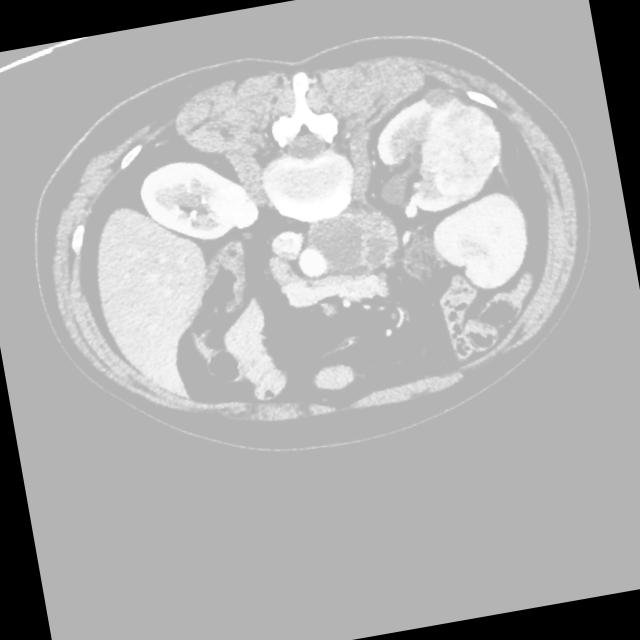TUMOR: (152, 179, 496, 412)
